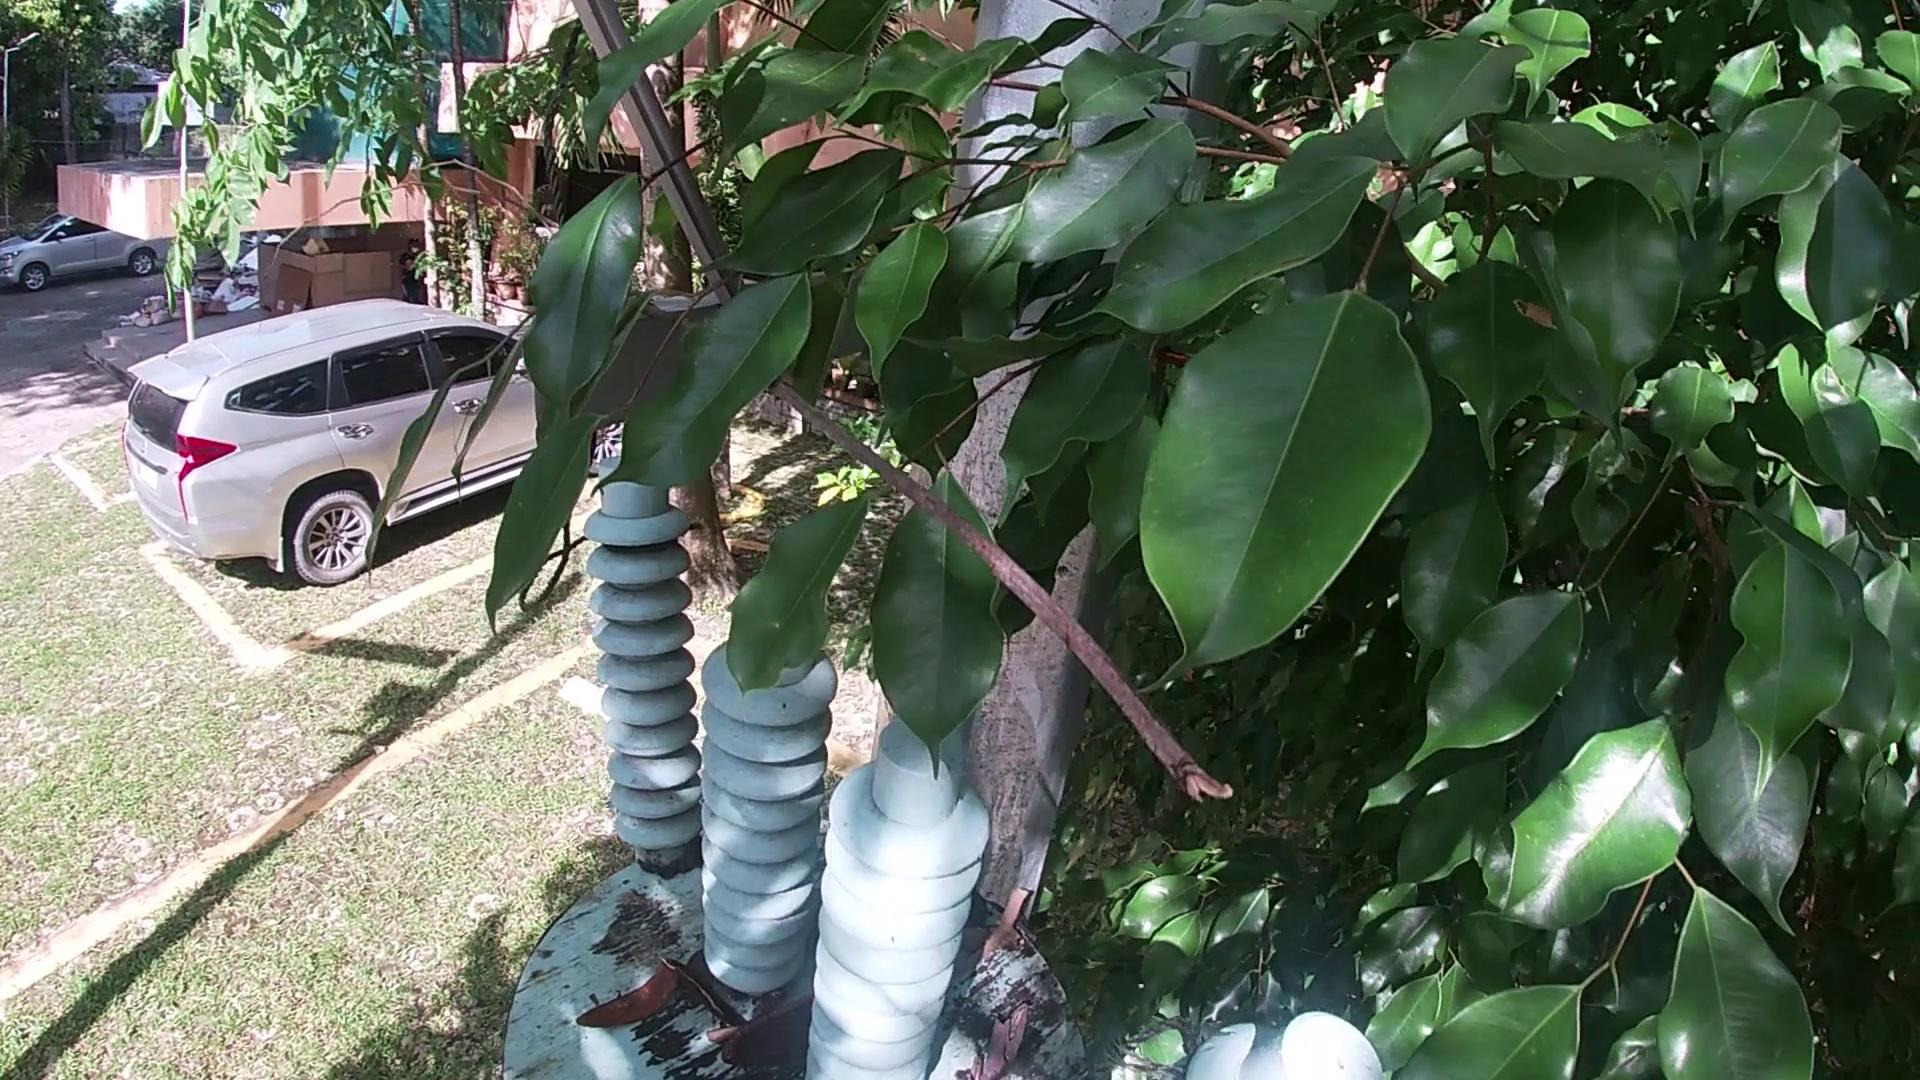leaf: (688, 964, 748, 1021)
mahogany fruit: (568, 956, 680, 1038), (708, 1006, 822, 1067)
tree branch: (675, 272, 1250, 807), (959, 985, 1059, 1075), (965, 887, 1036, 996), (963, 924, 1036, 949)
